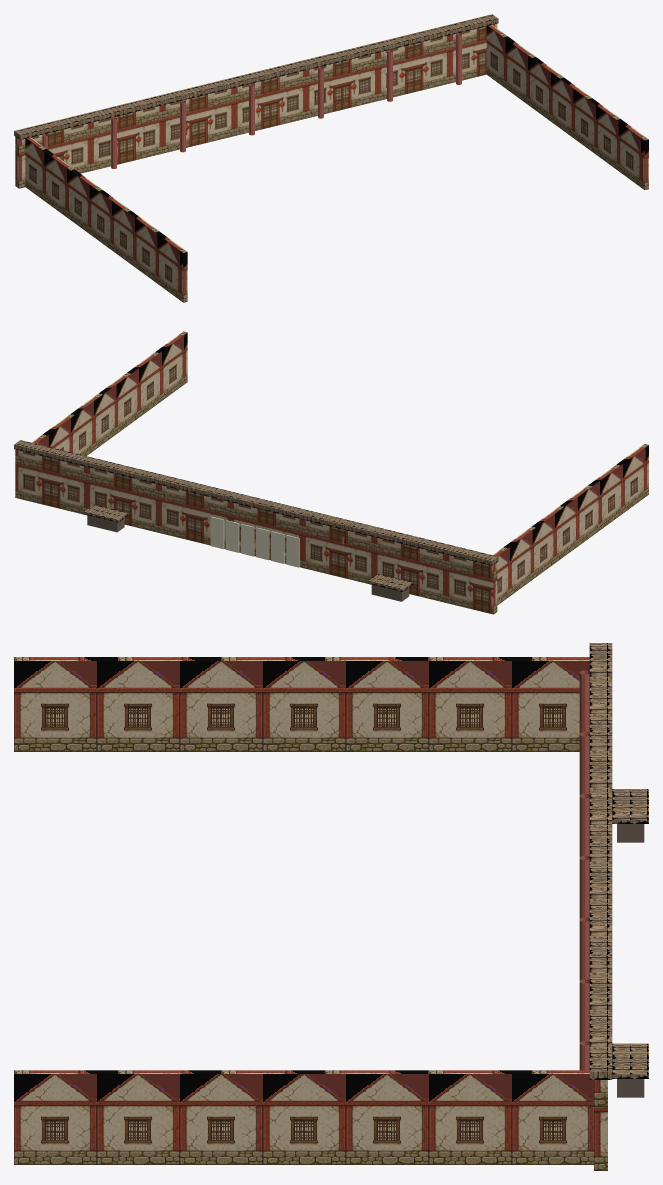
File: st_room.glb
The picture shows the model from 3 angles, top to bottom: view 1: azimuth 30°, elevation 25°; view 2: azimuth 150°, elevation 25°; view 3: azimuth 270°, elevation 25°; orthographic projection. The views are drawn at different scales.
Parts seen in each view (by area): view 1: wall, side, wood, red; view 2: wall, side, wood, screen, dark; view 3: side, wood, red, wall, dark.
Boxes of the visible parts, left/top/right/bottom form: wall: left=15, top=23, right=497, bottom=188; side: left=25, top=25, right=648, bottom=302; wood: left=14, top=14, right=498, bottom=139; red: left=42, top=33, right=461, bottom=168; wall: left=15, top=449, right=497, bottom=614; side: left=31, top=331, right=648, bottom=605; wood: left=14, top=440, right=498, bottom=591; screen: left=210, top=516, right=299, bottom=567; dark: left=87, top=515, right=409, bottom=601; side: left=14, top=657, right=593, bottom=1164; wood: left=589, top=643, right=648, bottom=1079; red: left=579, top=670, right=589, bottom=1070; wall: left=594, top=1080, right=607, bottom=1170; dark: left=617, top=824, right=644, bottom=1097.
Size of the model in its own units: 444 by 48.01 by 278.
6 materials, 3 textured.
